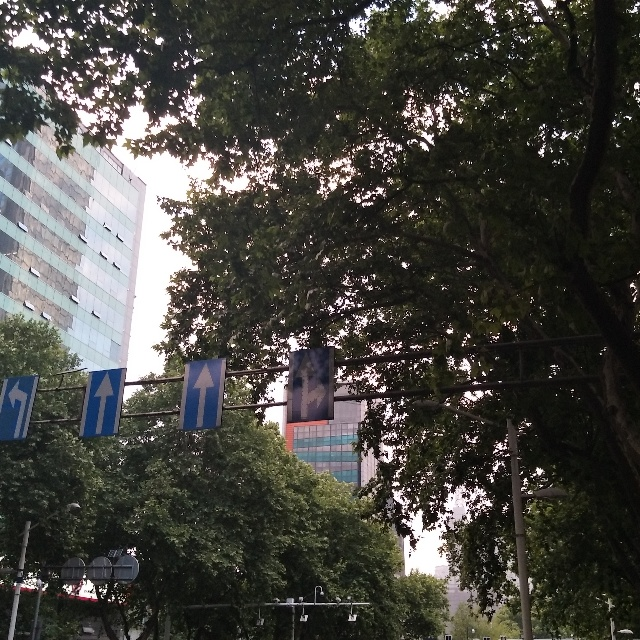left: (3, 376, 34, 437)
straight: (186, 362, 227, 432), (86, 365, 119, 439)
